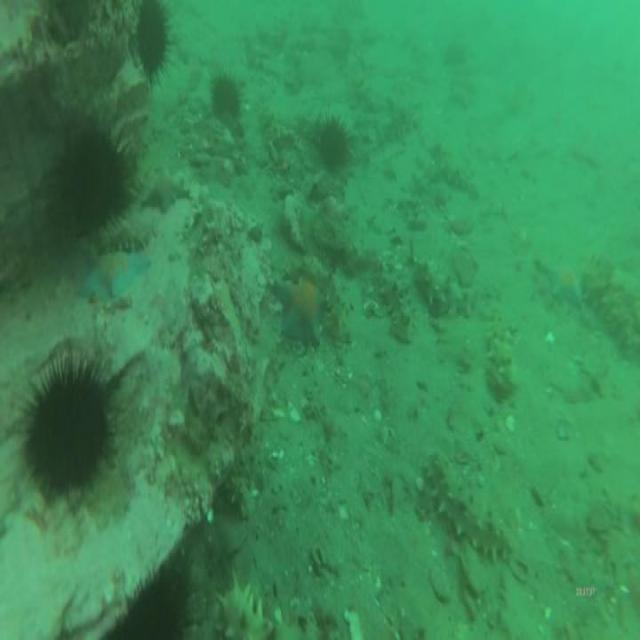echinus: (13, 352, 121, 510), (47, 114, 137, 243), (115, 545, 193, 640), (131, 0, 178, 96), (313, 109, 356, 182), (206, 66, 248, 126)
holothurian: (422, 447, 516, 569), (583, 261, 636, 357), (214, 561, 276, 640), (417, 248, 469, 318), (379, 264, 414, 348), (487, 313, 519, 403), (433, 144, 480, 200), (378, 95, 421, 139)
starfish: (271, 275, 332, 348), (72, 243, 151, 296), (144, 169, 191, 221), (542, 253, 582, 314)
